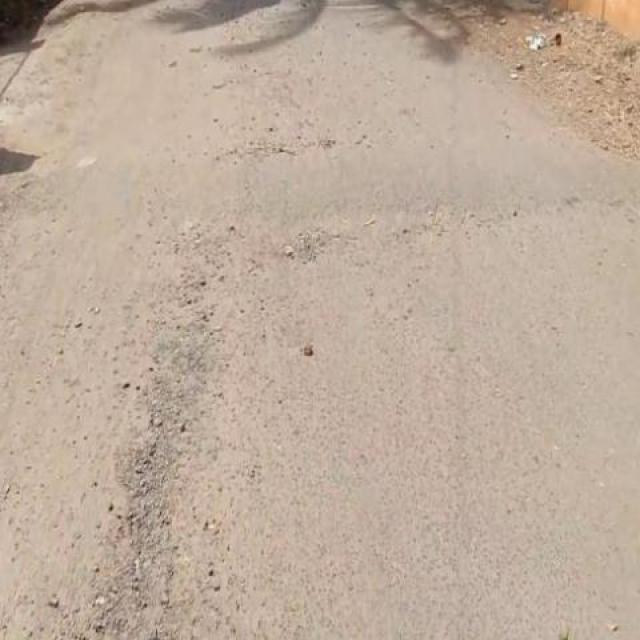Pothole: (226, 138, 340, 160)
Unmarked Bump: (1, 157, 640, 227)
